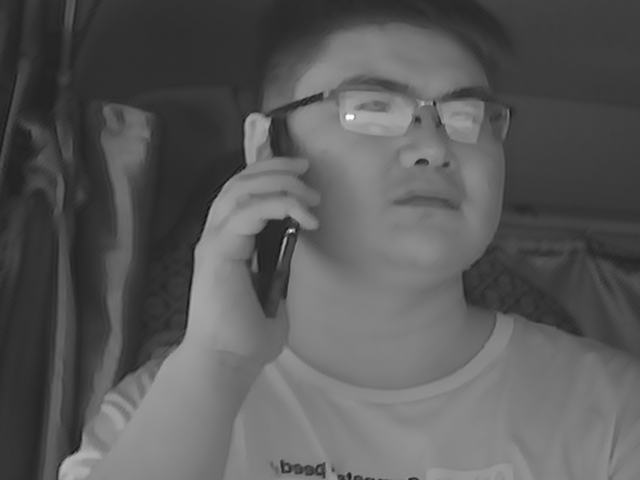hand: (187, 157, 316, 347)
